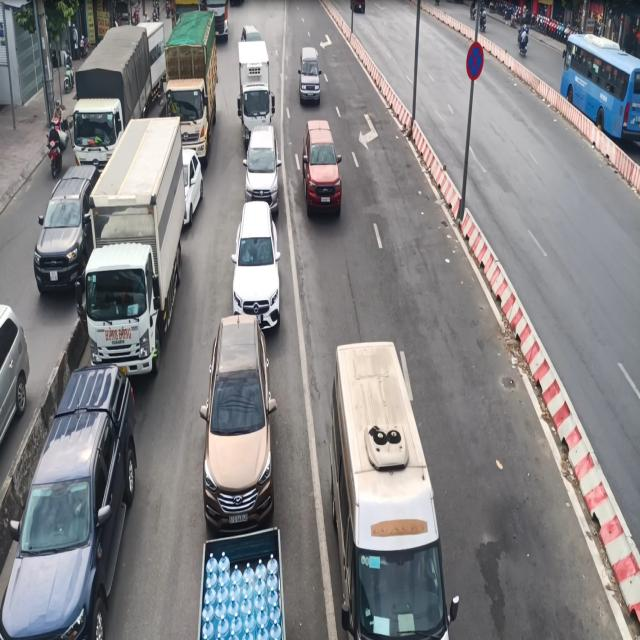car: (193, 316, 282, 519), (232, 196, 282, 324), (297, 110, 344, 218), (296, 35, 323, 112)
truck: (88, 119, 189, 386), (163, 6, 218, 152)
